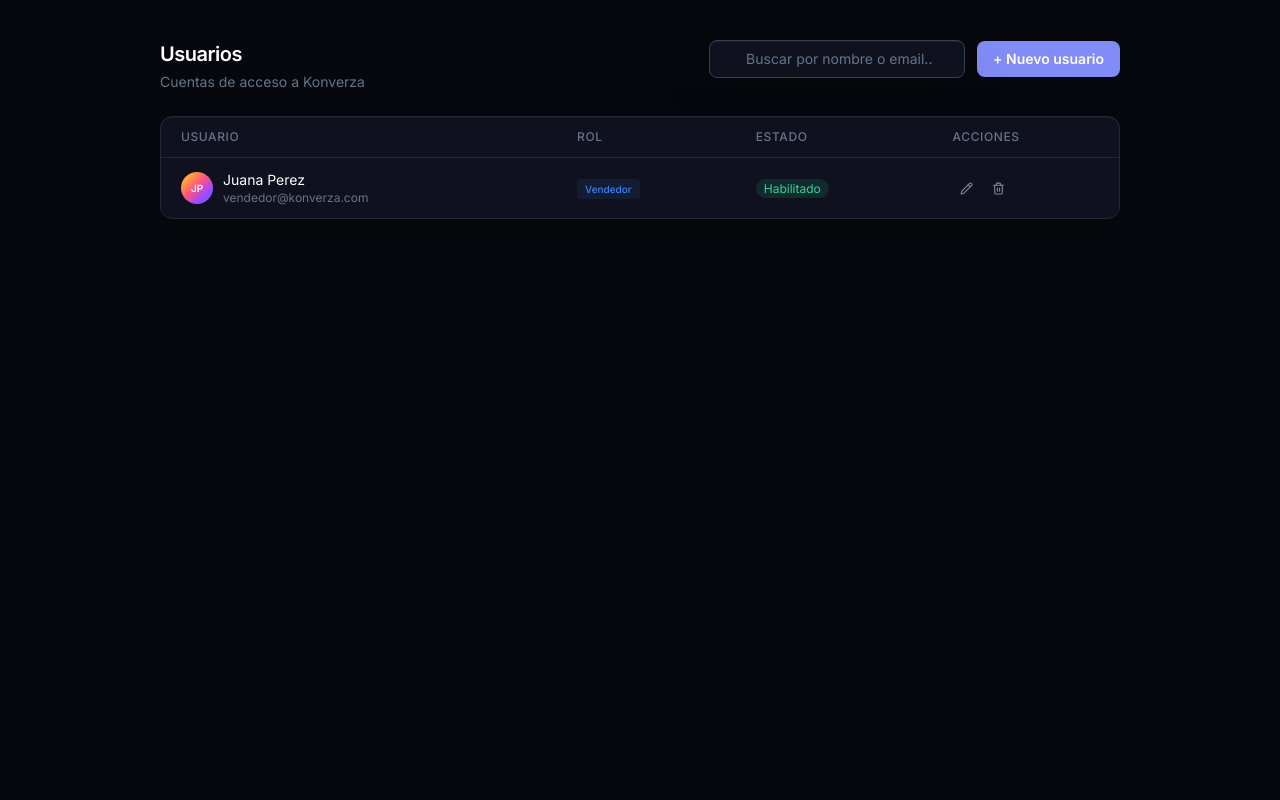
Test: UsersScreen › admin clicking a user row opens the activity panel with quick and full scenario data
Click the text "Juana Perez" at (264, 180), box [223,171,305,188]
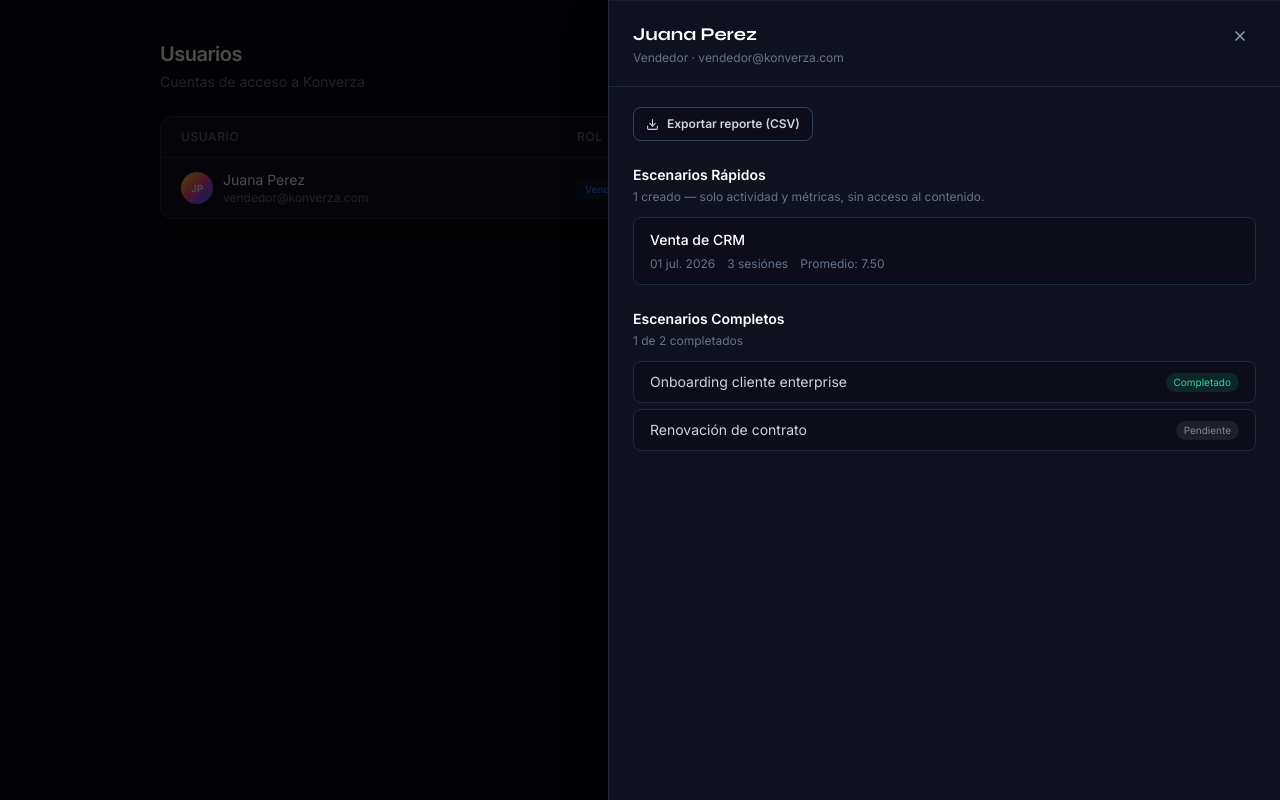
Result: the text "Venta de CRM" is shown at [650,230,745,250]
Result: the heading "Escenarios Rápidos" is shown at [633,166,766,183]
Result: the heading "Escenarios Completos" is shown at [633,310,784,327]
